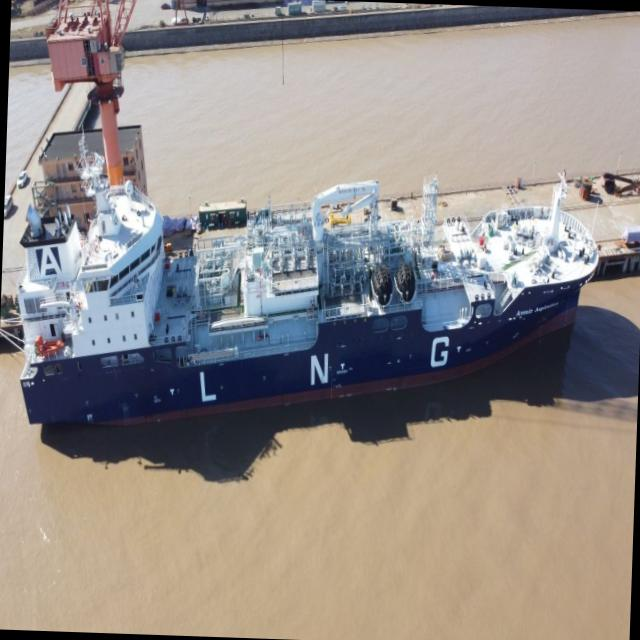boat: (0, 0, 621, 456)
